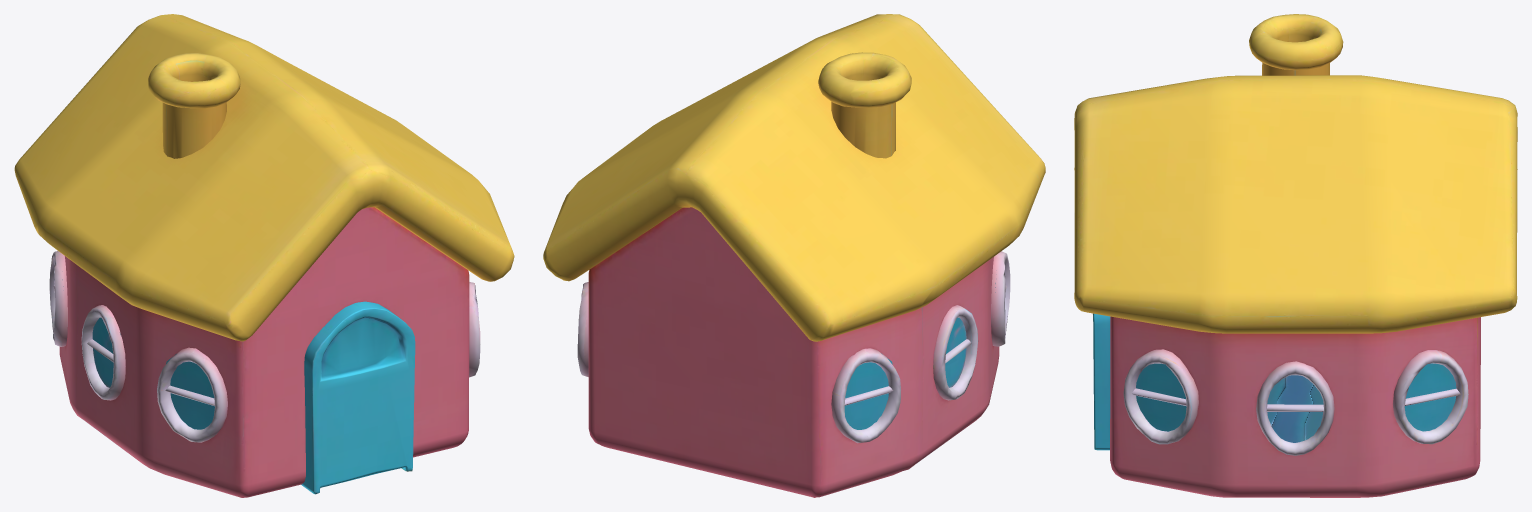
File: house-cottage.glb
3 renders of one model, left to right at view 1: azimuth 30°, elevation 25°; view 2: azimuth 150°, elevation 25°; view 3: azimuth 270°, elevation 25°, orthographic.
Visible parts, largest first — view 1: geometry_0; view 2: geometry_0; view 3: geometry_0.
Boxes of the visible parts, <box> form: geometry_0: <box>14,14,514,497</box>; geometry_0: <box>543,14,1045,497</box>; geometry_0: <box>1074,14,1517,497</box>.
Bounding box in the file's own units: 0.9664 × 0.9094 × 1.
1 material, 1 textured.
